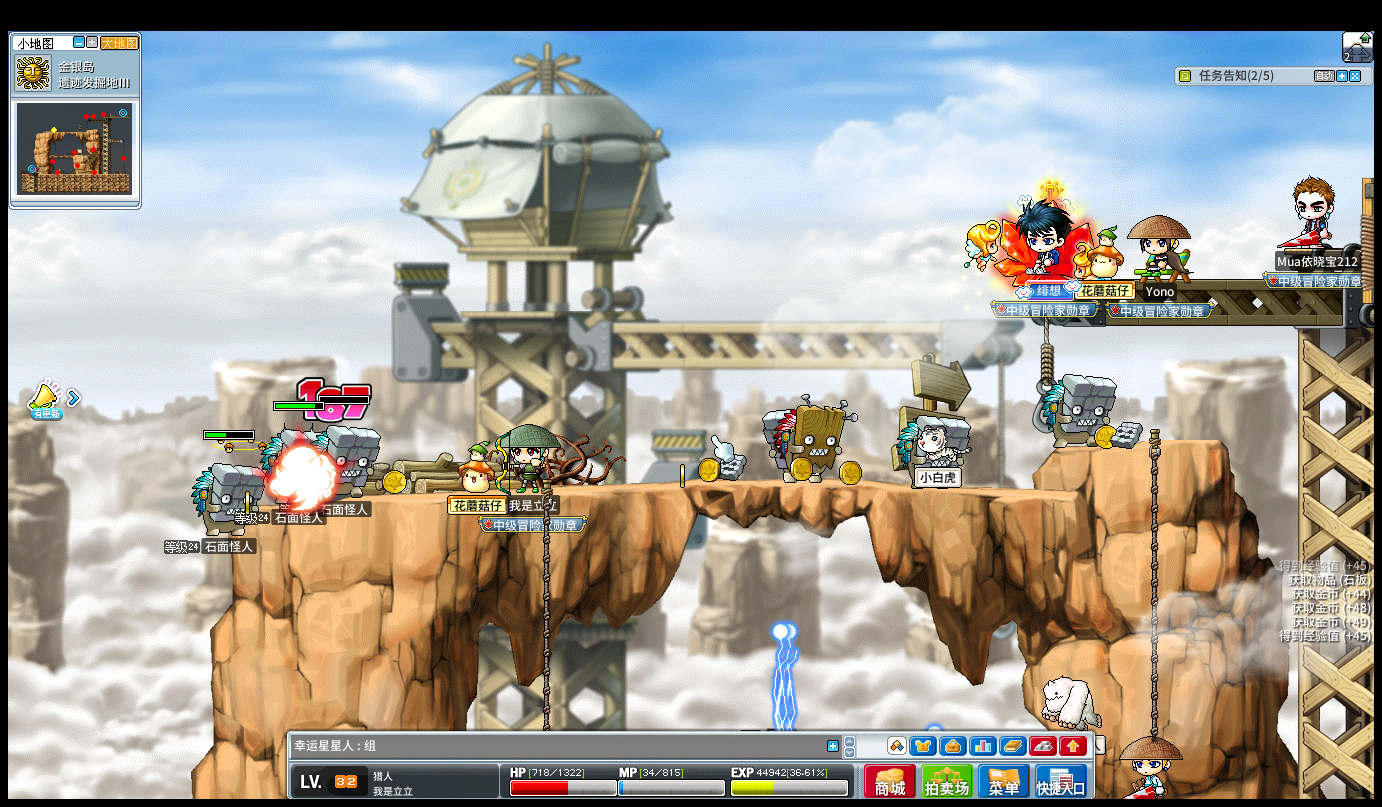floor: (256, 474, 1116, 503), (302, 476, 1085, 497), (1061, 435, 1225, 451)
monster: (764, 395, 854, 484), (1040, 371, 1116, 449), (191, 463, 260, 532), (650, 420, 714, 483), (330, 424, 381, 498)
rope: (1145, 429, 1161, 738), (539, 474, 551, 773), (539, 476, 551, 692), (1146, 634, 1159, 738)
